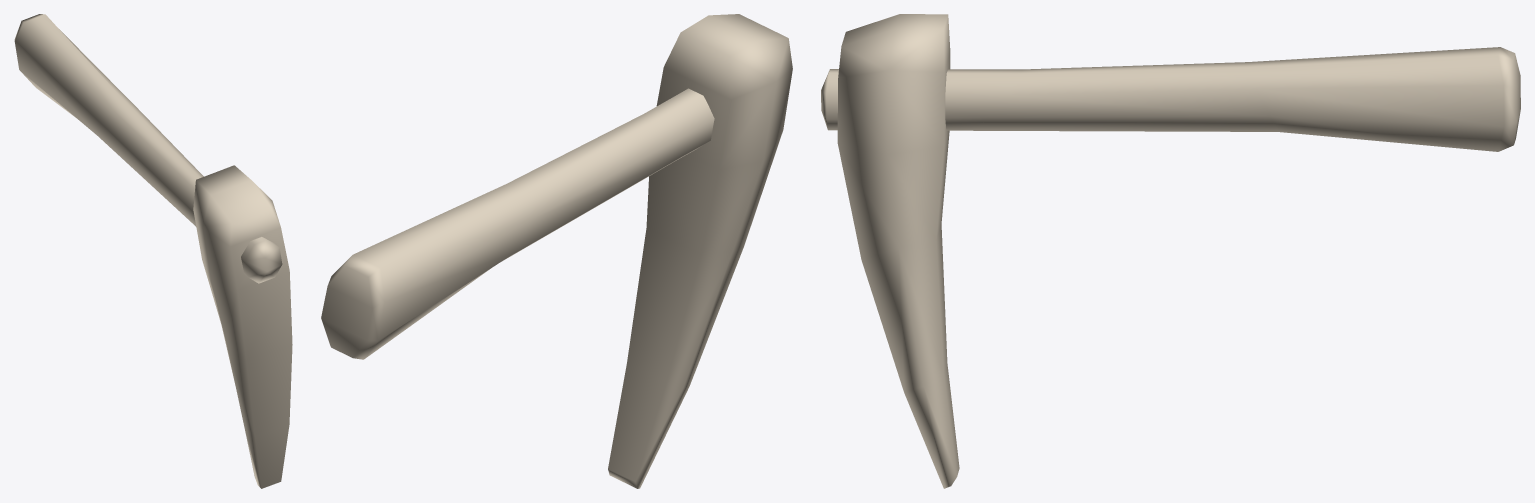
The model's file is pickaxe-base.glb.
3 views of the same model, side by side, from view 1: azimuth 30°, elevation 25°; view 2: azimuth 150°, elevation 25°; view 3: azimuth 270°, elevation 25° (orthographic). The views are drawn at different scales.
Size of the model in its own units: 0.1265 by 0.4092 by 0.5974.
